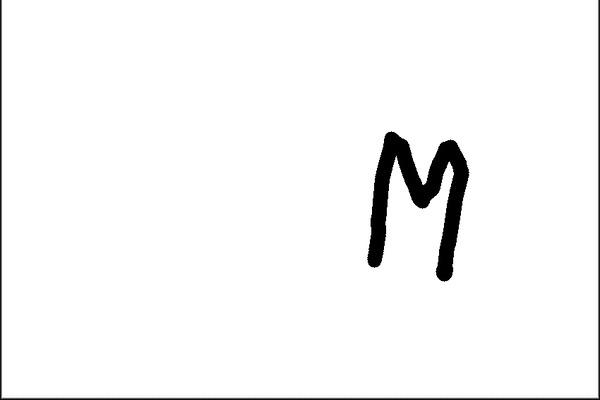M: (367, 129, 472, 287)
